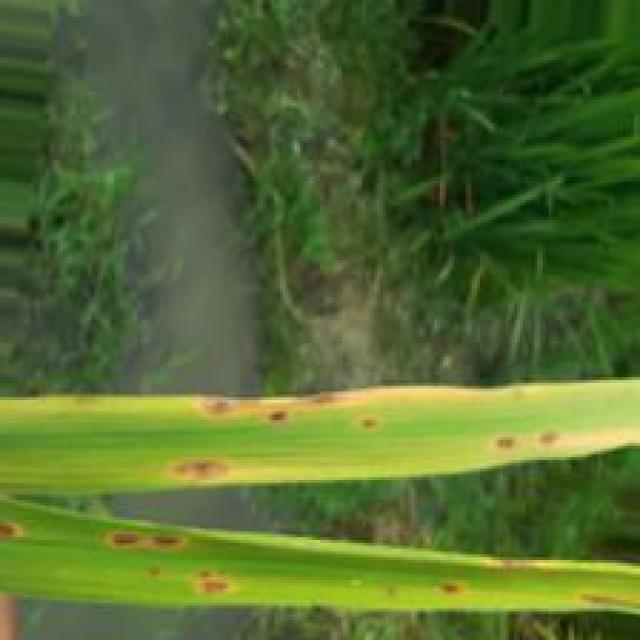Brown_Spot: (165, 451, 234, 483), (105, 531, 197, 553), (192, 572, 240, 601), (204, 396, 234, 416), (263, 408, 287, 423), (536, 429, 557, 446), (312, 393, 334, 404), (443, 580, 458, 594), (360, 418, 377, 430), (497, 437, 514, 449)
